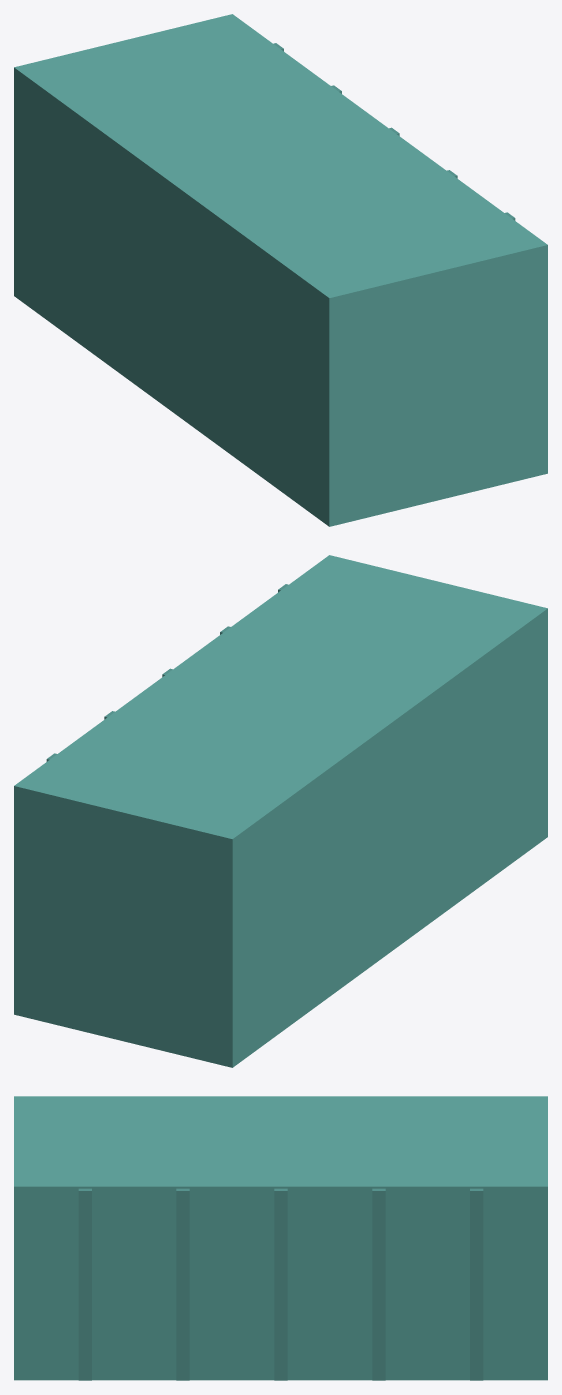
File: container.glb
3 renders of one model, top to bottom at view 1: azimuth 30°, elevation 25°; view 2: azimuth 150°, elevation 25°; view 3: azimuth 270°, elevation 25°, orthographic. The views are drawn at different scales.
Parts seen in each view (by area): view 1: container; view 2: container; view 3: container.
Part boxes in pixels (x1,y1,x2,y2): container: [14, 14, 547, 526]; container: [14, 555, 547, 1067]; container: [14, 1096, 547, 1380].
Size of the model in its own units: 2.46 by 2.4 by 6.
